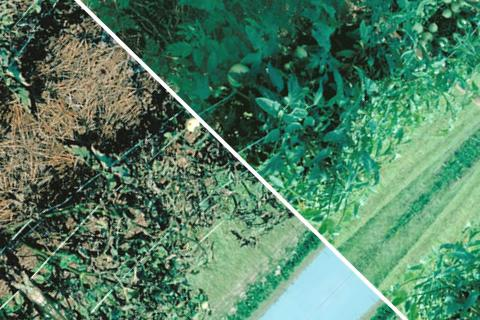Tomato leaf bacterial spot: (246, 84, 288, 126), (319, 64, 360, 105), (232, 18, 273, 59), (318, 118, 353, 152), (304, 17, 337, 50)
